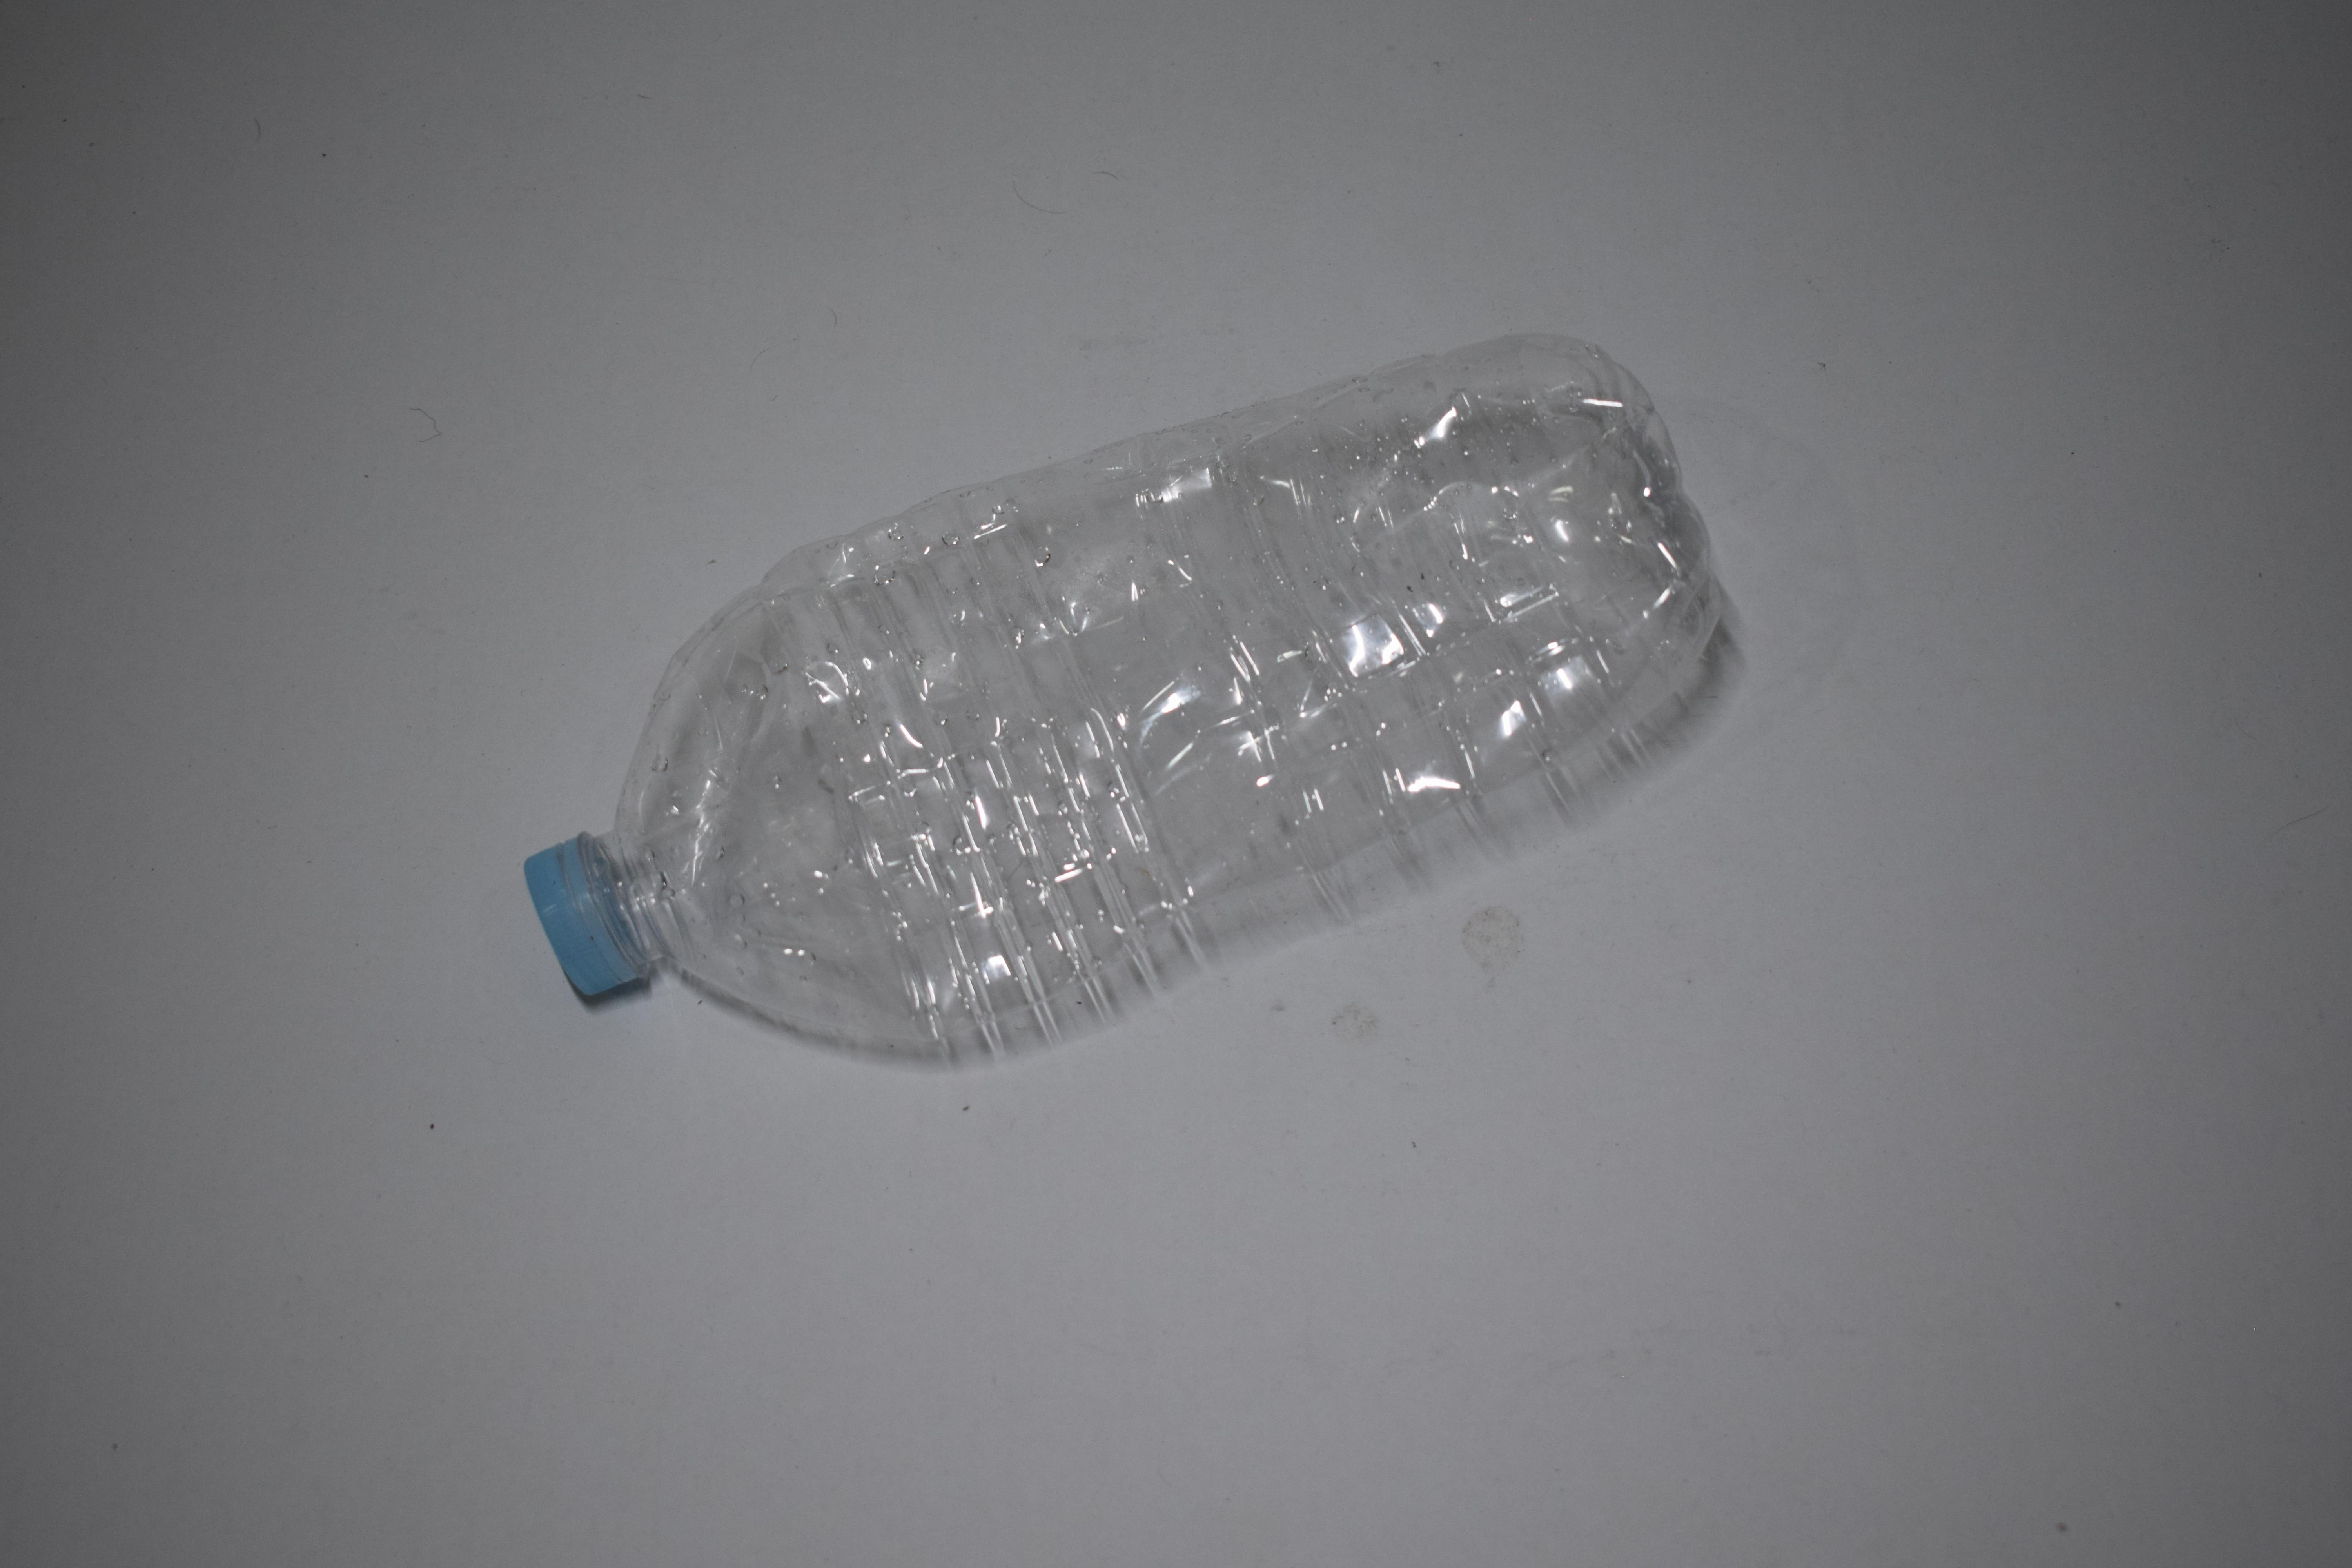bottle: (1101, 318, 1148, 1066)
